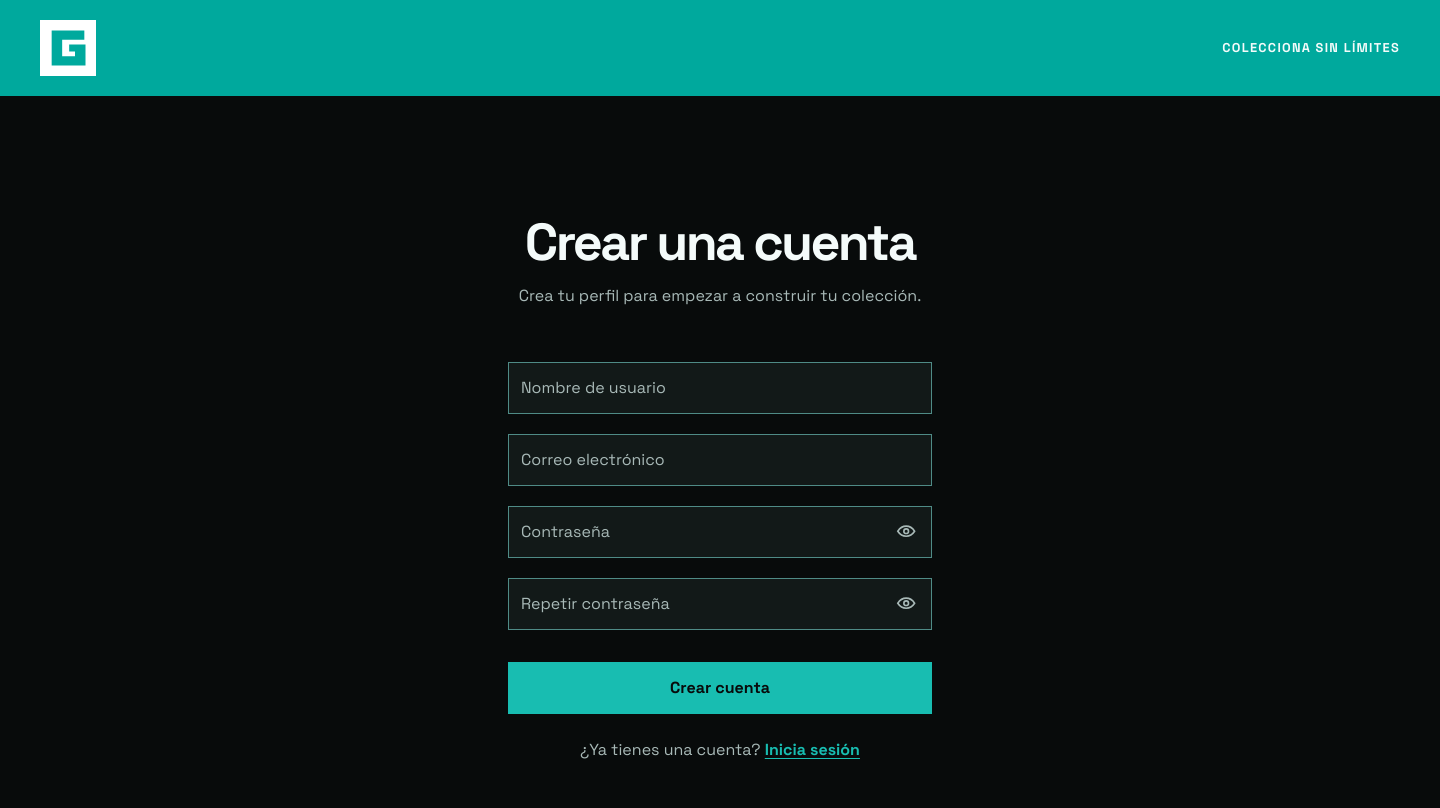
Test: autenticación › no envía el registro cuando las contraseñas no coinciden
The width and height of the screenshot is (1440, 808).
Expected: the heading "Crear una cuenta" is shown, [508, 216, 932, 268]
Type "Ada" into the field labelled "Nombre de usuario" at (720, 388), box [508, 362, 932, 414]
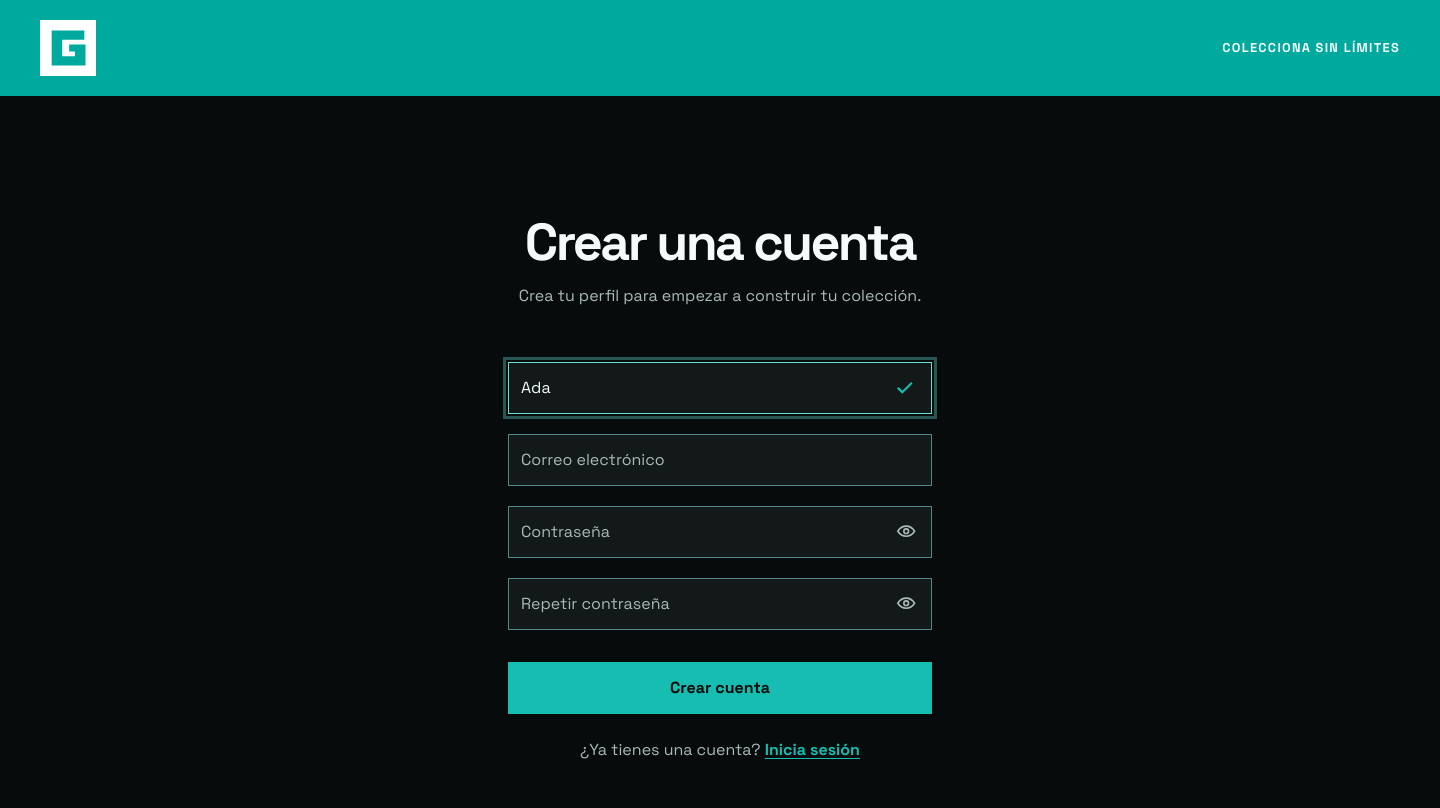
Type "ada@example.com" into the field labelled "Correo electrónico" at (720, 460), box [508, 434, 932, 486]
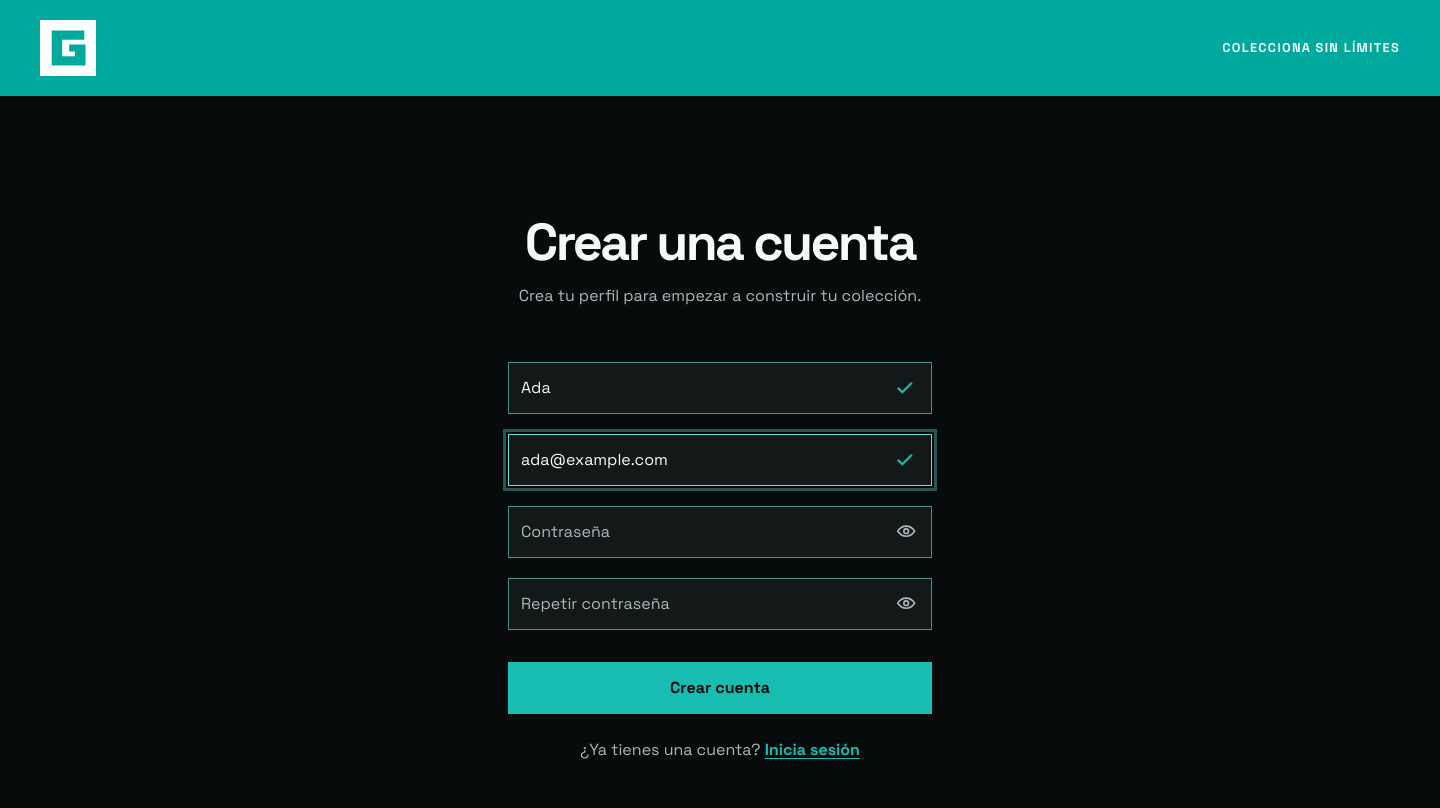
Type "una-clave-segura" into the password field labelled "Contraseña" at (720, 532), box [508, 506, 932, 558]
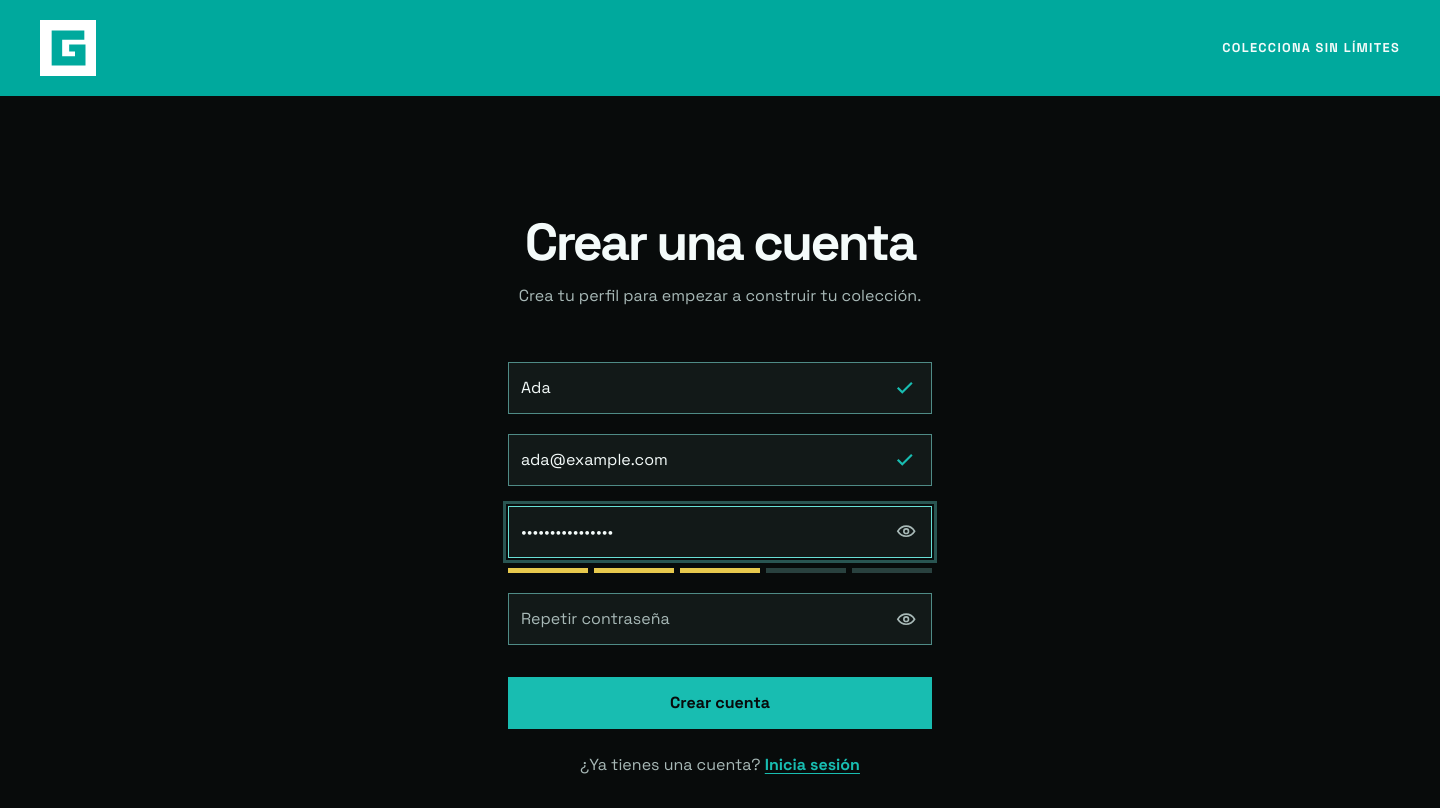
Type "otra-clave-segura" into the password field labelled "Repetir contraseña" at (720, 619), box [508, 593, 932, 645]
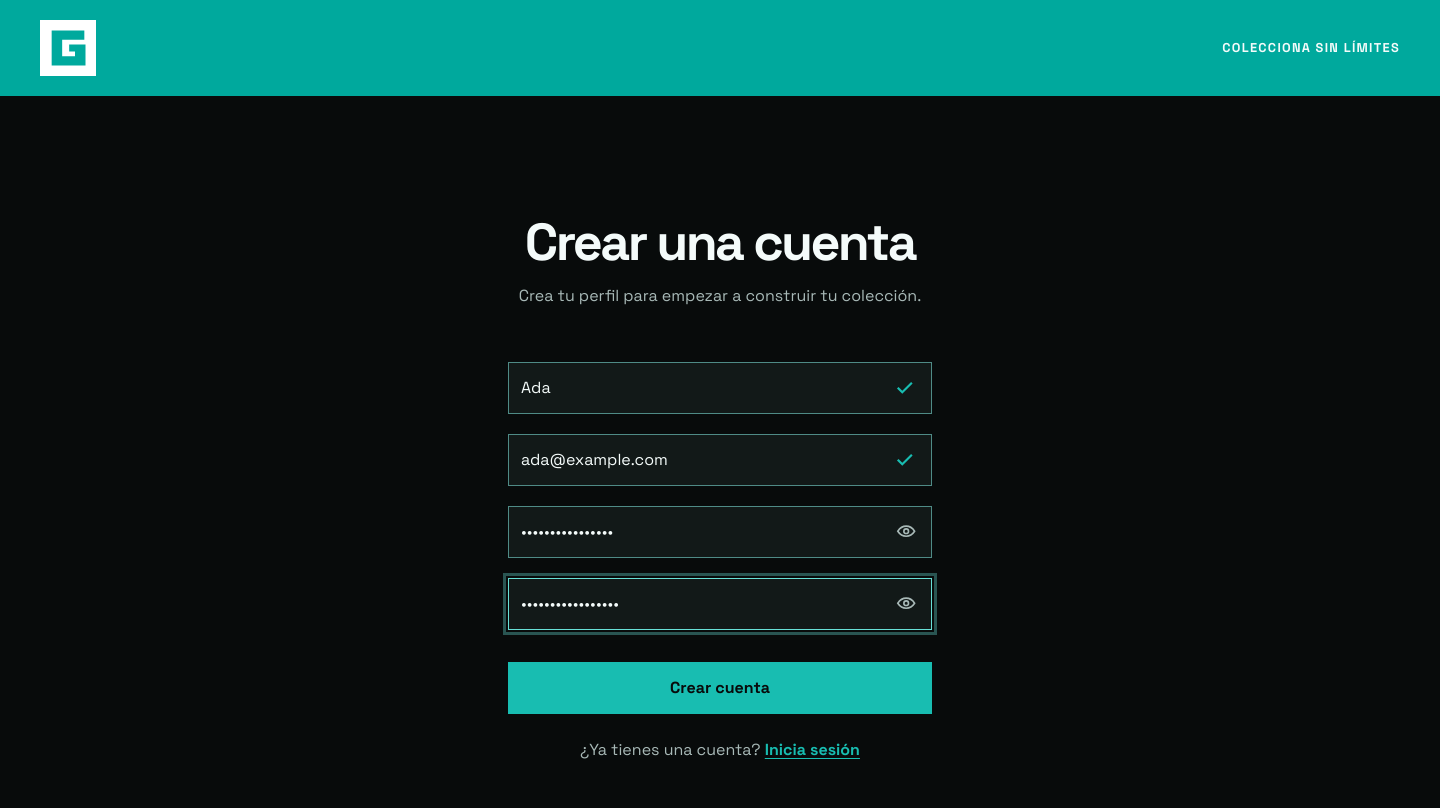
Click the button "Crear cuenta" at (720, 688), box [508, 662, 932, 714]
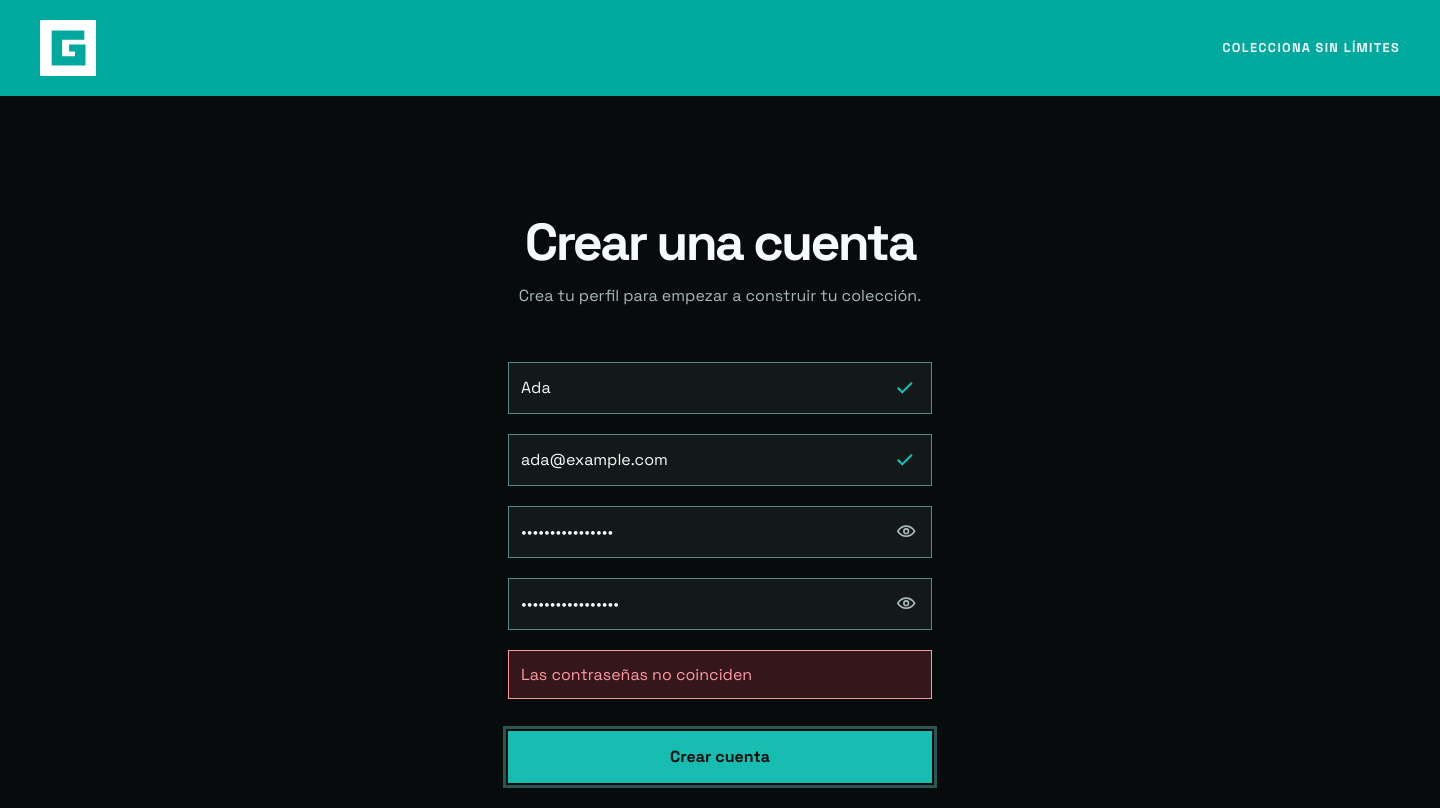
Expected: the message reads "Las contraseñas no coinciden", [521, 664, 752, 685]
